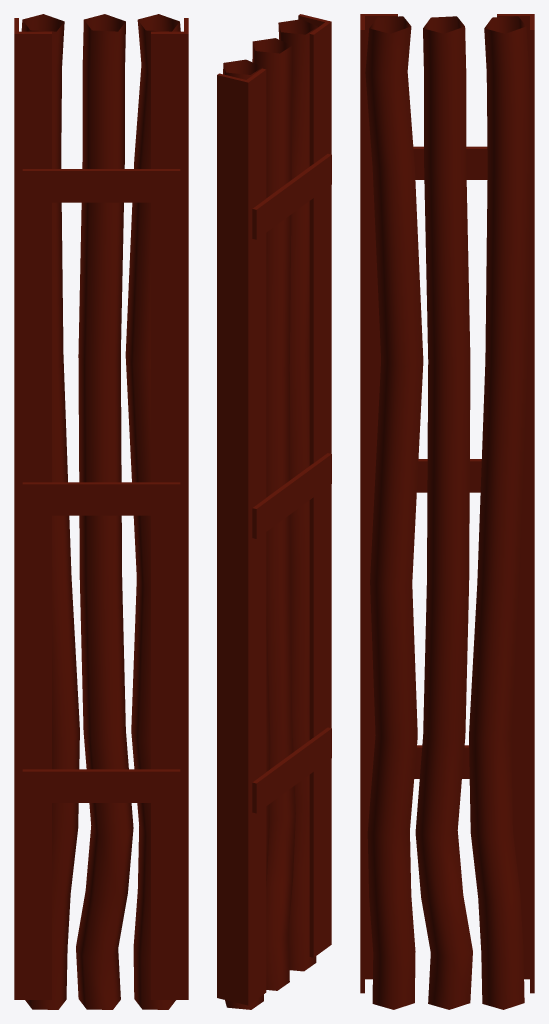
The model's file is wire3.FBX.
The picture shows the model from 3 angles, left to right: view 1: azimuth 90°, elevation 25°; view 2: azimuth 150°, elevation 25°; view 3: azimuth 270°, elevation 25°; orthographic projection. The views are drawn at different scales.
Visible parts, largest first — view 1: wire3; view 2: wire3; view 3: wire3.
Part boxes in pixels (x1,y1,x2,y2): wire3: (14, 14, 188, 1009); wire3: (217, 14, 331, 1009); wire3: (360, 14, 534, 1009).
Bounding box in the file's own units: 5.9 × 122 × 19.73.
